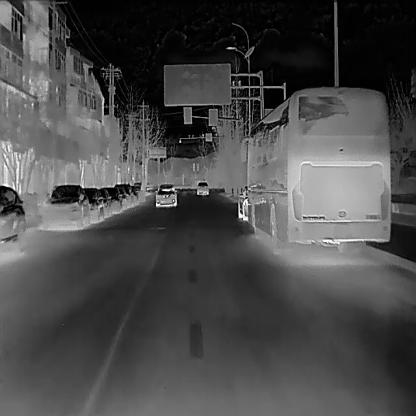bus: (239, 86, 391, 253)
car: (40, 183, 90, 231), (0, 184, 26, 252), (79, 184, 105, 224), (237, 182, 255, 219), (154, 181, 178, 207), (104, 184, 122, 214), (97, 185, 110, 217), (196, 179, 209, 196)
